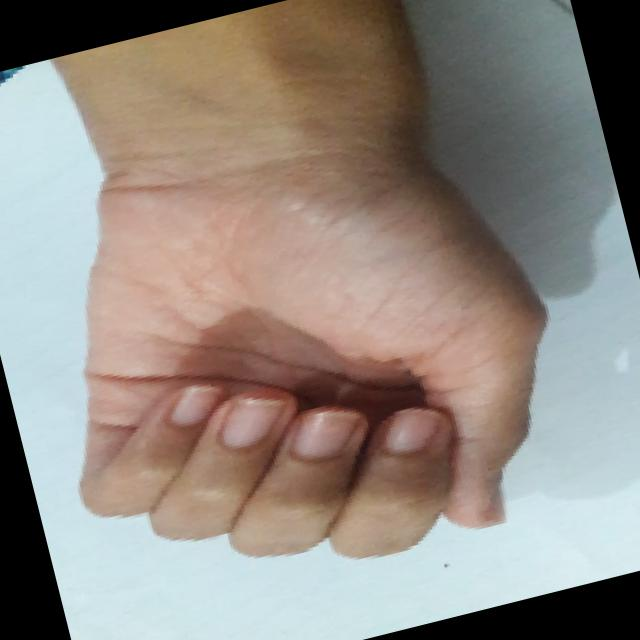Nail: (291, 407, 357, 457), (220, 397, 279, 447), (382, 407, 437, 452), (170, 384, 222, 425)
